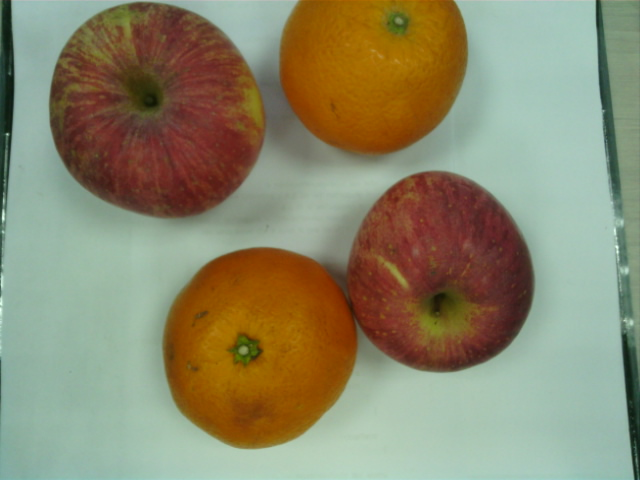normal_apple: (52, 2, 266, 218), (346, 171, 536, 373)
normal_orange: (163, 247, 357, 450), (280, 1, 469, 155)
